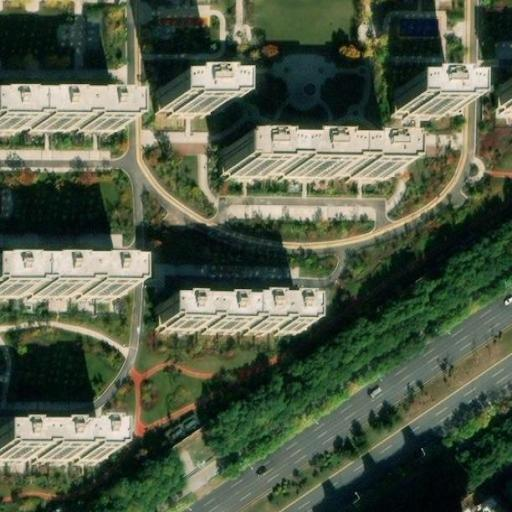building: (226, 145, 396, 176), (164, 298, 310, 329), (0, 267, 128, 298), (0, 101, 126, 132), (0, 430, 107, 459), (159, 86, 223, 114), (396, 87, 457, 116), (494, 38, 512, 61)
